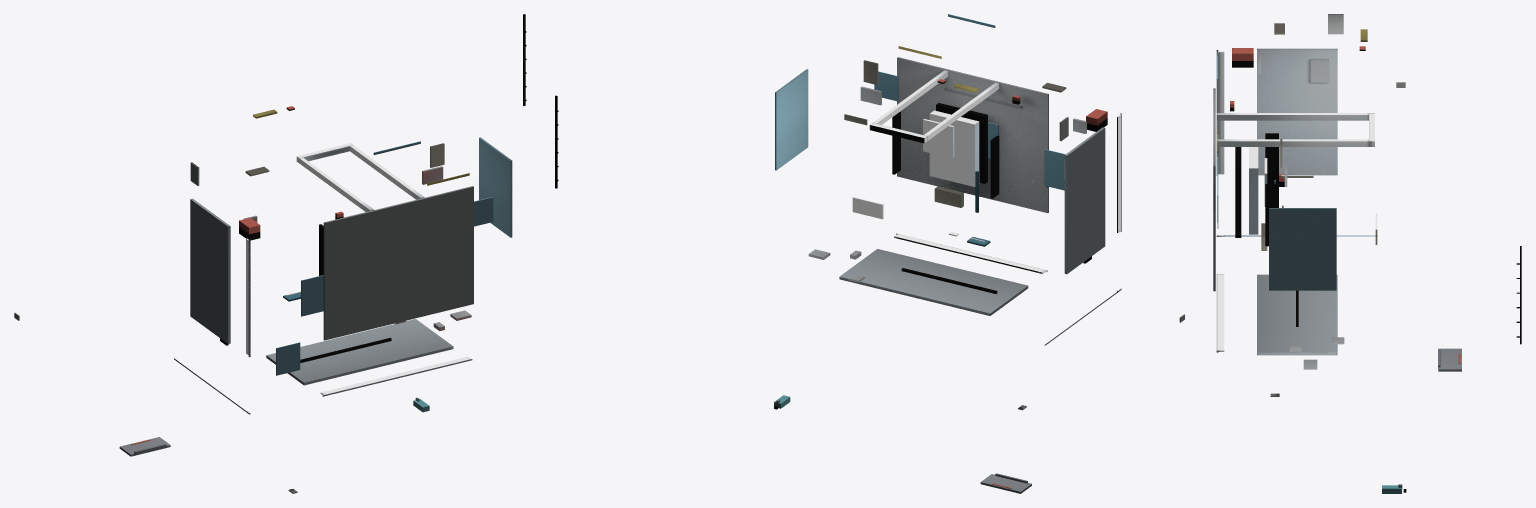
File: ed-exam-bay-shell.glb
3 views of the same model, side by side, from view 1: azimuth 30°, elevation 25°; view 2: azimuth 150°, elevation 25°; view 3: azimuth 270°, elevation 25° (orthographic). The views are drawn at different scales.
Parts seen in each view (by area): view 1: ed_exam_bay_floor, ed_exam_bay_back_wall, ed_exam_bay_left_wall, ed_exam_bay_privacy_curtain_panel, ed_exam_bay_nurse_zone_marker, ed_exam_bay_skirting_back, ed_exam_bay_equipment_wall_marker, ed_exam_bay_door_reveal_jamb_l, ed_exam_bay_door_reveal_jamb_r, ed_exam_bay_skirting_left; view 2: ed_exam_bay_floor, ed_exam_bay_back_wall, ed_exam_bay_left_wall, ed_exam_bay_privacy_curtain_panel, ed_exam_bay_stretcher_mattress, ed_exam_bay_stretcher_base, ed_exam_bay_bed_blanket_fold, ed_exam_bay_skirting_back, ed_exam_bay_nurse_zone_marker, ed_exam_bay_door_reveal_jamb_l, ed_exam_bay_door_reveal_jamb_r; view 3: ed_exam_bay_left_wall, ed_exam_bay_privacy_curtain_panel, ed_exam_bay_back_wall, ed_exam_bay_door_reveal_jamb_l, ed_exam_bay_door_reveal_jamb_r, ed_exam_bay_skirting_left, ed_exam_bay_stretcher_mattress, ed_exam_bay_skirting_back, ed_exam_bay_stretcher_base, ed_exam_bay_floor, ed_exam_bay_stretcher_left_rail, ed_exam_bay_handoff_whiteboard_frame (+3 smaller).
Part boxes in pixels (x1,y1,x2,y2): ed_exam_bay_floor: [323, 186, 473, 340]; ed_exam_bay_back_wall: [266, 319, 453, 385]; ed_exam_bay_left_wall: [190, 198, 230, 343]; ed_exam_bay_privacy_curtain_panel: [479, 137, 512, 237]; ed_exam_bay_nurse_zone_marker: [301, 275, 323, 316]; ed_exam_bay_skirting_back: [320, 356, 470, 395]; ed_exam_bay_equipment_wall_marker: [276, 342, 300, 375]; ed_exam_bay_door_reveal_jamb_l: [299, 157, 374, 211]; ed_exam_bay_door_reveal_jamb_r: [350, 145, 424, 199]; ed_exam_bay_skirting_left: [246, 238, 250, 355]; ed_exam_bay_floor: [897, 57, 1048, 213]; ed_exam_bay_back_wall: [839, 249, 1028, 315]; ed_exam_bay_left_wall: [1064, 127, 1105, 274]; ed_exam_bay_privacy_curtain_panel: [775, 69, 808, 170]; ed_exam_bay_stretcher_mattress: [929, 110, 979, 186]; ed_exam_bay_stretcher_base: [936, 103, 987, 183]; ed_exam_bay_bed_blanket_fold: [923, 119, 954, 158]; ed_exam_bay_skirting_back: [894, 234, 1045, 273]; ed_exam_bay_nurse_zone_marker: [1044, 149, 1065, 190]; ed_exam_bay_door_reveal_jamb_l: [924, 82, 999, 140]; ed_exam_bay_door_reveal_jamb_r: [873, 70, 948, 124]; ed_exam_bay_left_wall: [1257, 48, 1337, 175]; ed_exam_bay_privacy_curtain_panel: [1269, 208, 1336, 290]; ed_exam_bay_back_wall: [1257, 274, 1337, 355]; ed_exam_bay_door_reveal_jamb_l: [1216, 113, 1368, 120]; ed_exam_bay_door_reveal_jamb_r: [1216, 139, 1368, 146]; ed_exam_bay_skirting_left: [1216, 51, 1224, 174]; ed_exam_bay_stretcher_mattress: [1249, 147, 1258, 234]; ed_exam_bay_skirting_back: [1216, 274, 1224, 351]; ed_exam_bay_stretcher_base: [1235, 147, 1241, 237]; ed_exam_bay_floor: [1213, 88, 1215, 291]; ed_exam_bay_stretcher_left_rail: [1265, 133, 1278, 183]; ed_exam_bay_handoff_whiteboard_frame: [1438, 348, 1461, 371].
Size of the model in its own units: 9.07 by 5.32 by 4.02.
29 materials, 29 textured.
